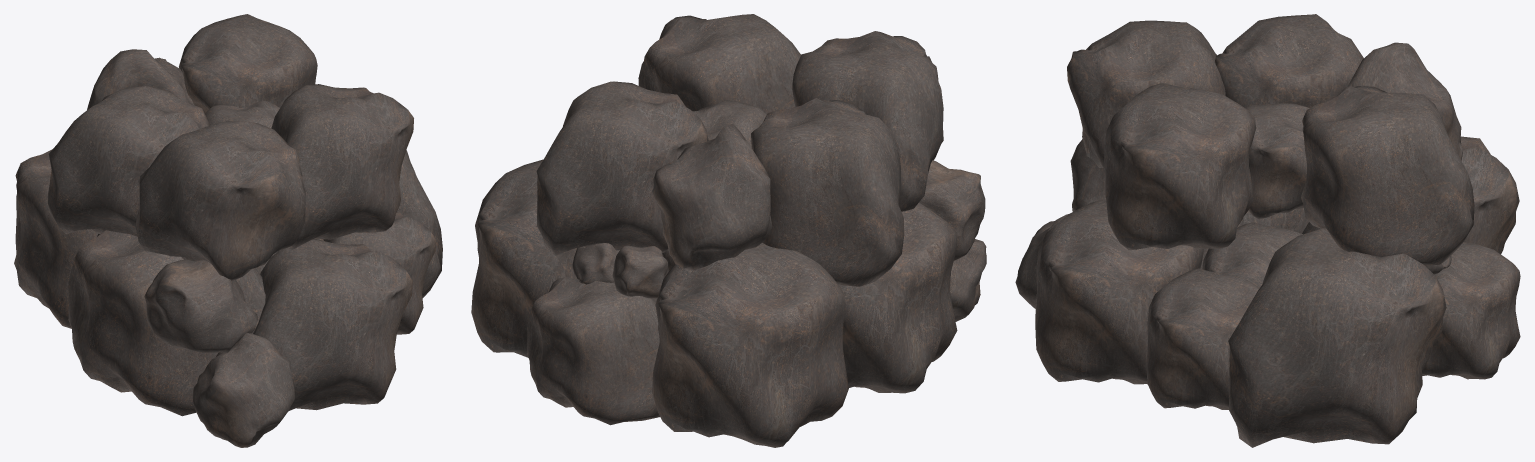
File: SmallPileOfRocks.obj
The picture shows the model from 3 angles, left to right: view 1: azimuth 30°, elevation 25°; view 2: azimuth 150°, elevation 25°; view 3: azimuth 270°, elevation 25°; orthographic projection. The views are drawn at different scales.
Visible parts, largest first — view 1: Cube.006; view 2: Cube.006; view 3: Cube.006.
Part boxes in pixels (box(x1,y1,x2,y2)): Cube.006: box(14, 14, 442, 447); Cube.006: box(471, 14, 986, 447); Cube.006: box(1015, 14, 1520, 447).
Bounding box in the file's own units: 2.27 × 1.65 × 2.45.
